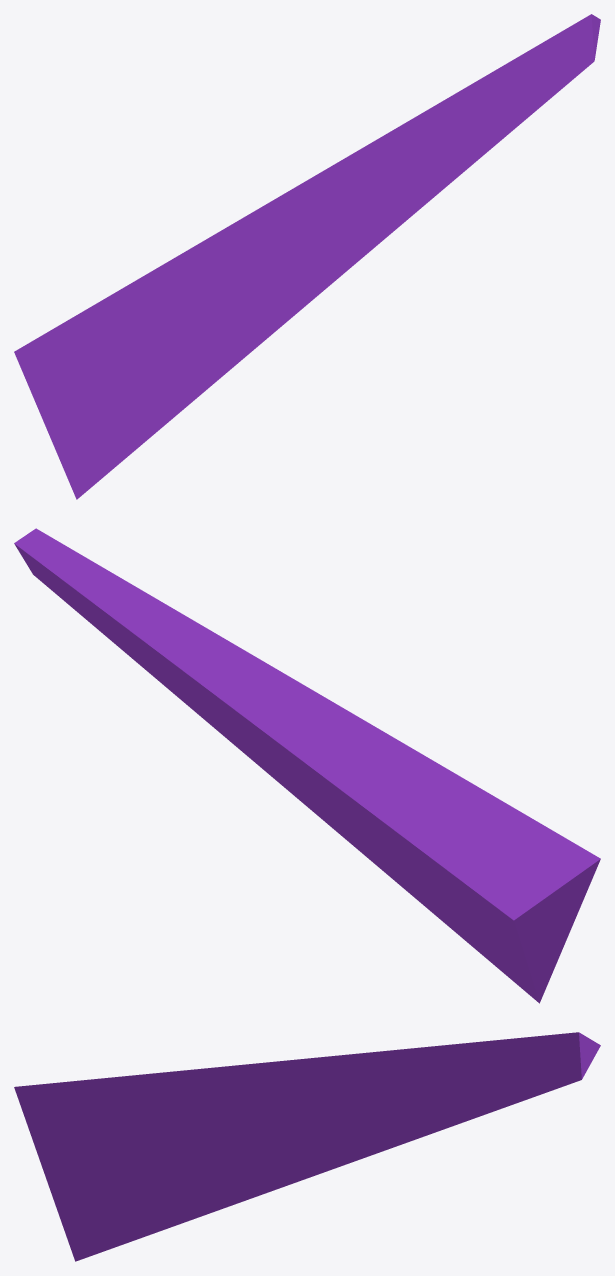
The model's file is Glass_103_8_chunks.fbx.
3 views of the same model, one above another, from view 1: azimuth 30°, elevation 25°; view 2: azimuth 150°, elevation 25°; view 3: azimuth 330°, elevation 25° (orthographic). The views are drawn at different scales.
Visible parts, largest first — view 1: Glass_103_8_0; view 2: Glass_103_8_0; view 3: Glass_103_8_0.
Part boxes in pixels (x1=…): Glass_103_8_0: x1=14, y1=14, x2=600, y2=499; Glass_103_8_0: x1=14, y1=528, x2=600, y2=1003; Glass_103_8_0: x1=14, y1=1032, x2=600, y2=1261.
Bounding box in the file's own units: 186 × 108 × 14.49.
